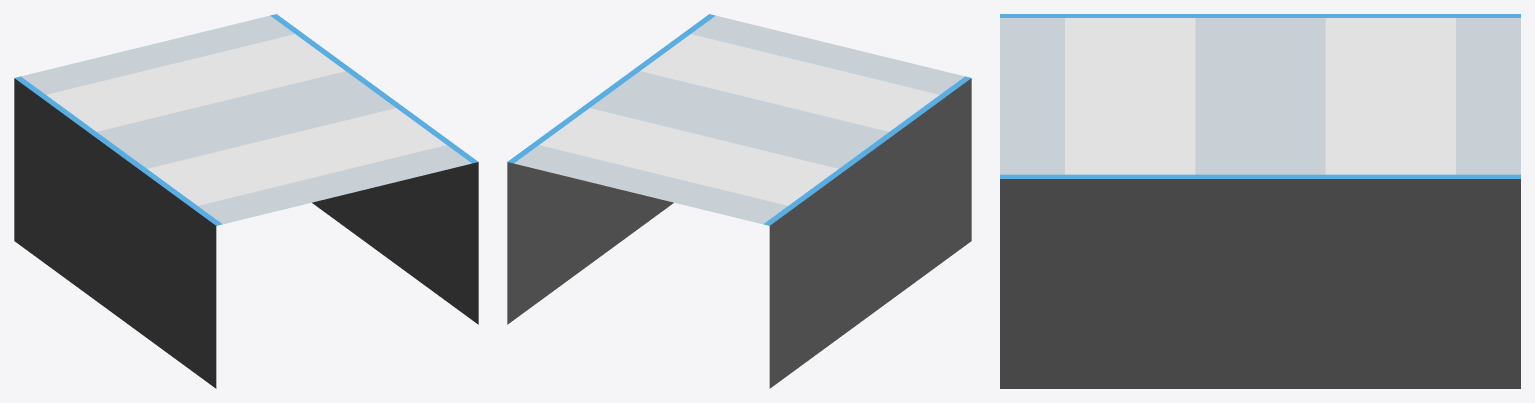
The model's file is Tile_Straight.fbx.
3 renders of one model, left to right at view 1: azimuth 30°, elevation 25°; view 2: azimuth 150°, elevation 25°; view 3: azimuth 270°, elevation 25°, orthographic. The views are drawn at different scales.
Parts seen in each view (by area): view 1: Tile_Straight; view 2: Tile_Straight; view 3: Tile_Straight.
Boxes of the visible parts, x1=… form: Tile_Straight: x1=14, y1=14, x2=478, y2=388; Tile_Straight: x1=507, y1=14, x2=971, y2=388; Tile_Straight: x1=1000, y1=14, x2=1520, y2=388.
Size of the model in its own units: 2.82 by 1.67 by 3.76.
